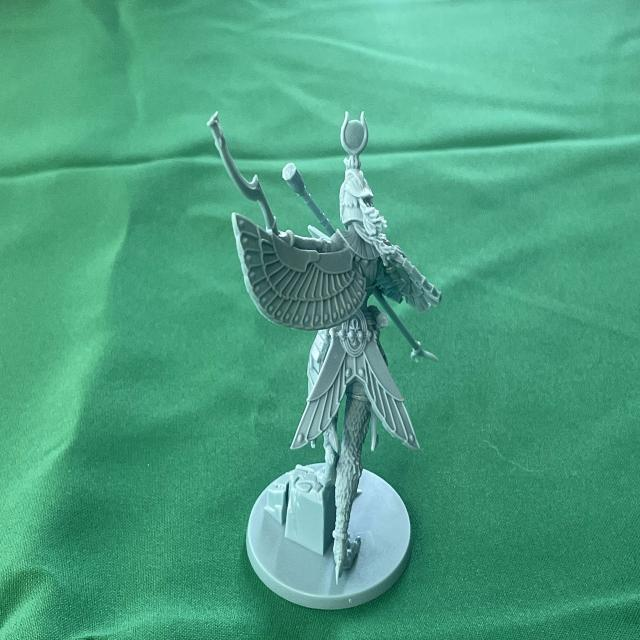isis: (201, 93, 446, 626)
